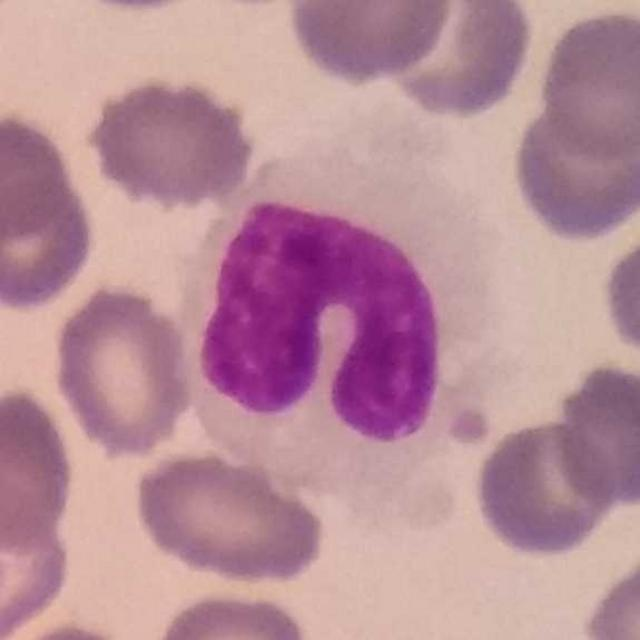mono: (181, 144, 502, 536)
